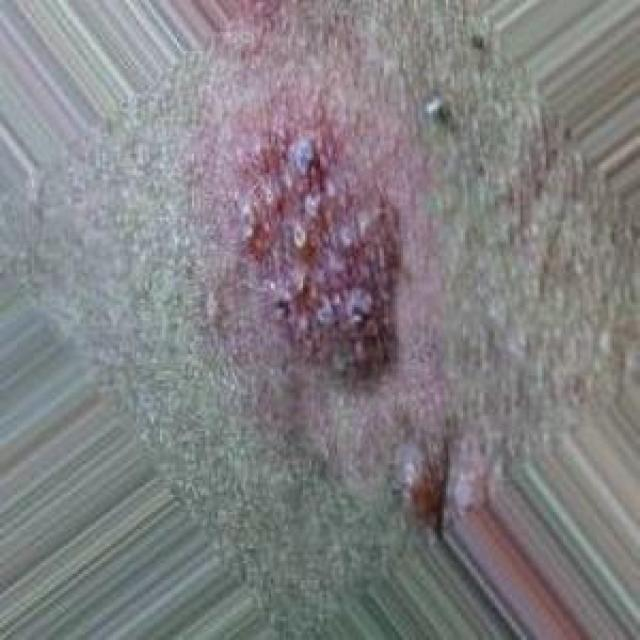Shingles: (233, 130, 399, 375)
